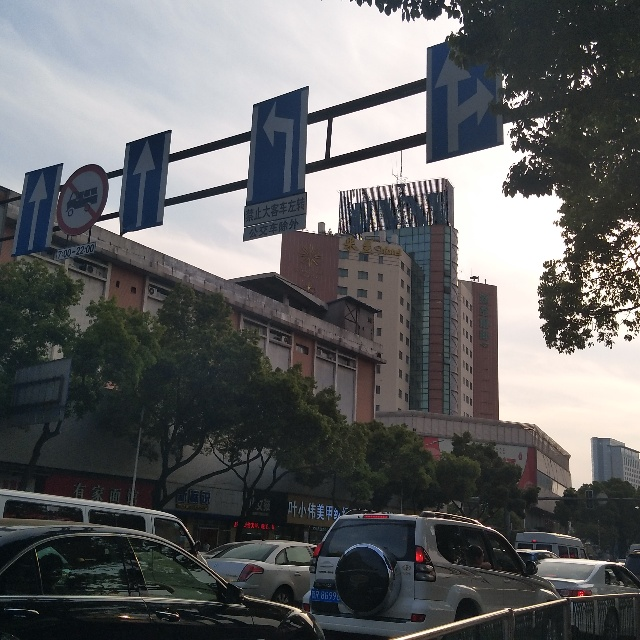left: (256, 105, 309, 205)
straight: (129, 136, 167, 229), (21, 168, 53, 249)
